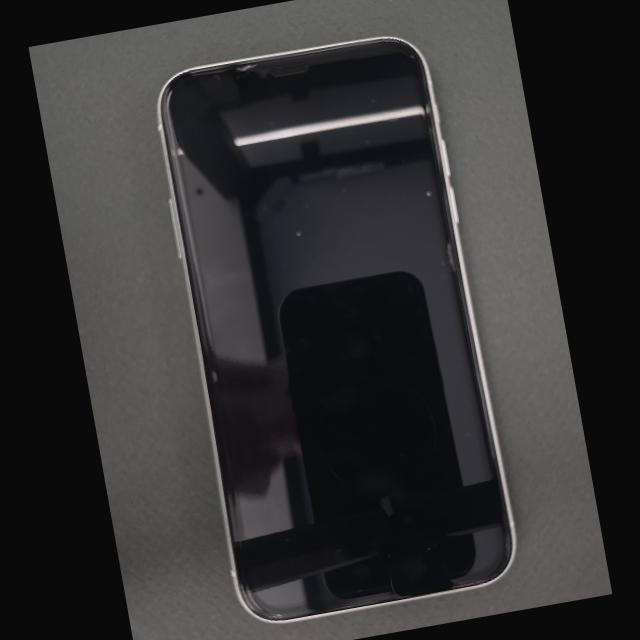lens: (259, 72, 265, 78)
phone: (156, 36, 517, 624)
